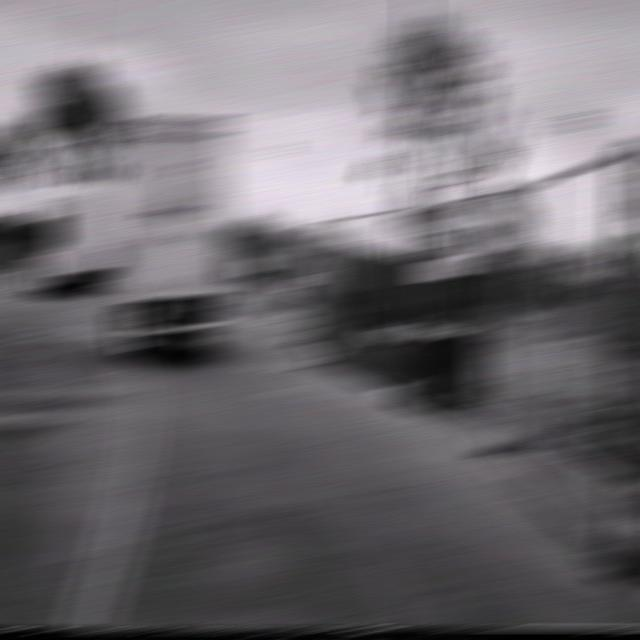stop: (393, 182, 435, 235)
